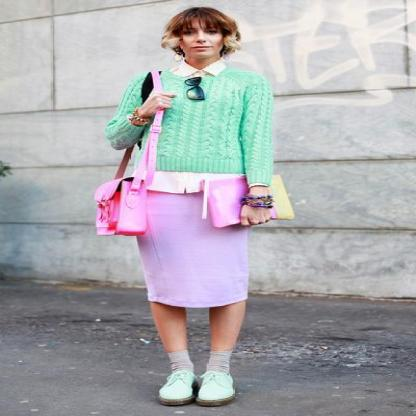bag: (95, 125, 293, 242)
jacket: (105, 68, 275, 184)
shirt: (146, 50, 244, 193)
shoe: (159, 370, 233, 400)
skirt: (134, 180, 264, 306)
sunglass: (184, 77, 205, 101)
